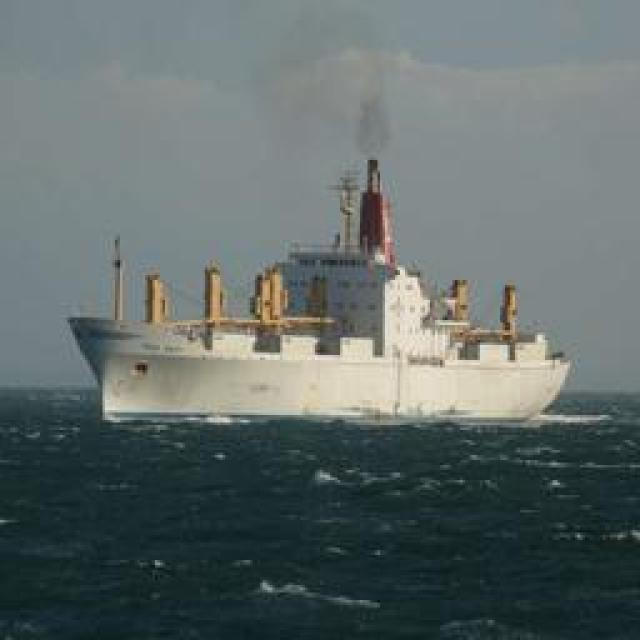CIV_Ship: (81, 266, 576, 426)
